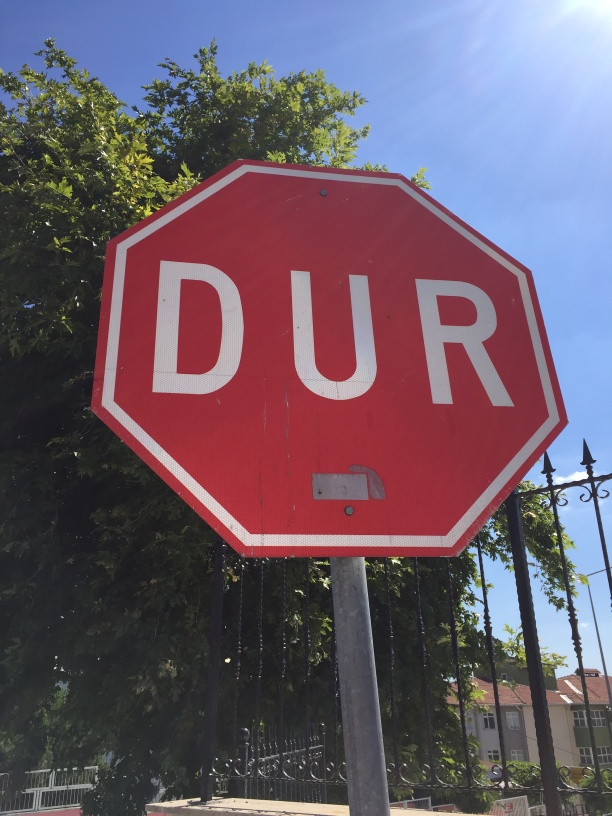arac_dur_isareti: (92, 119, 568, 606)
